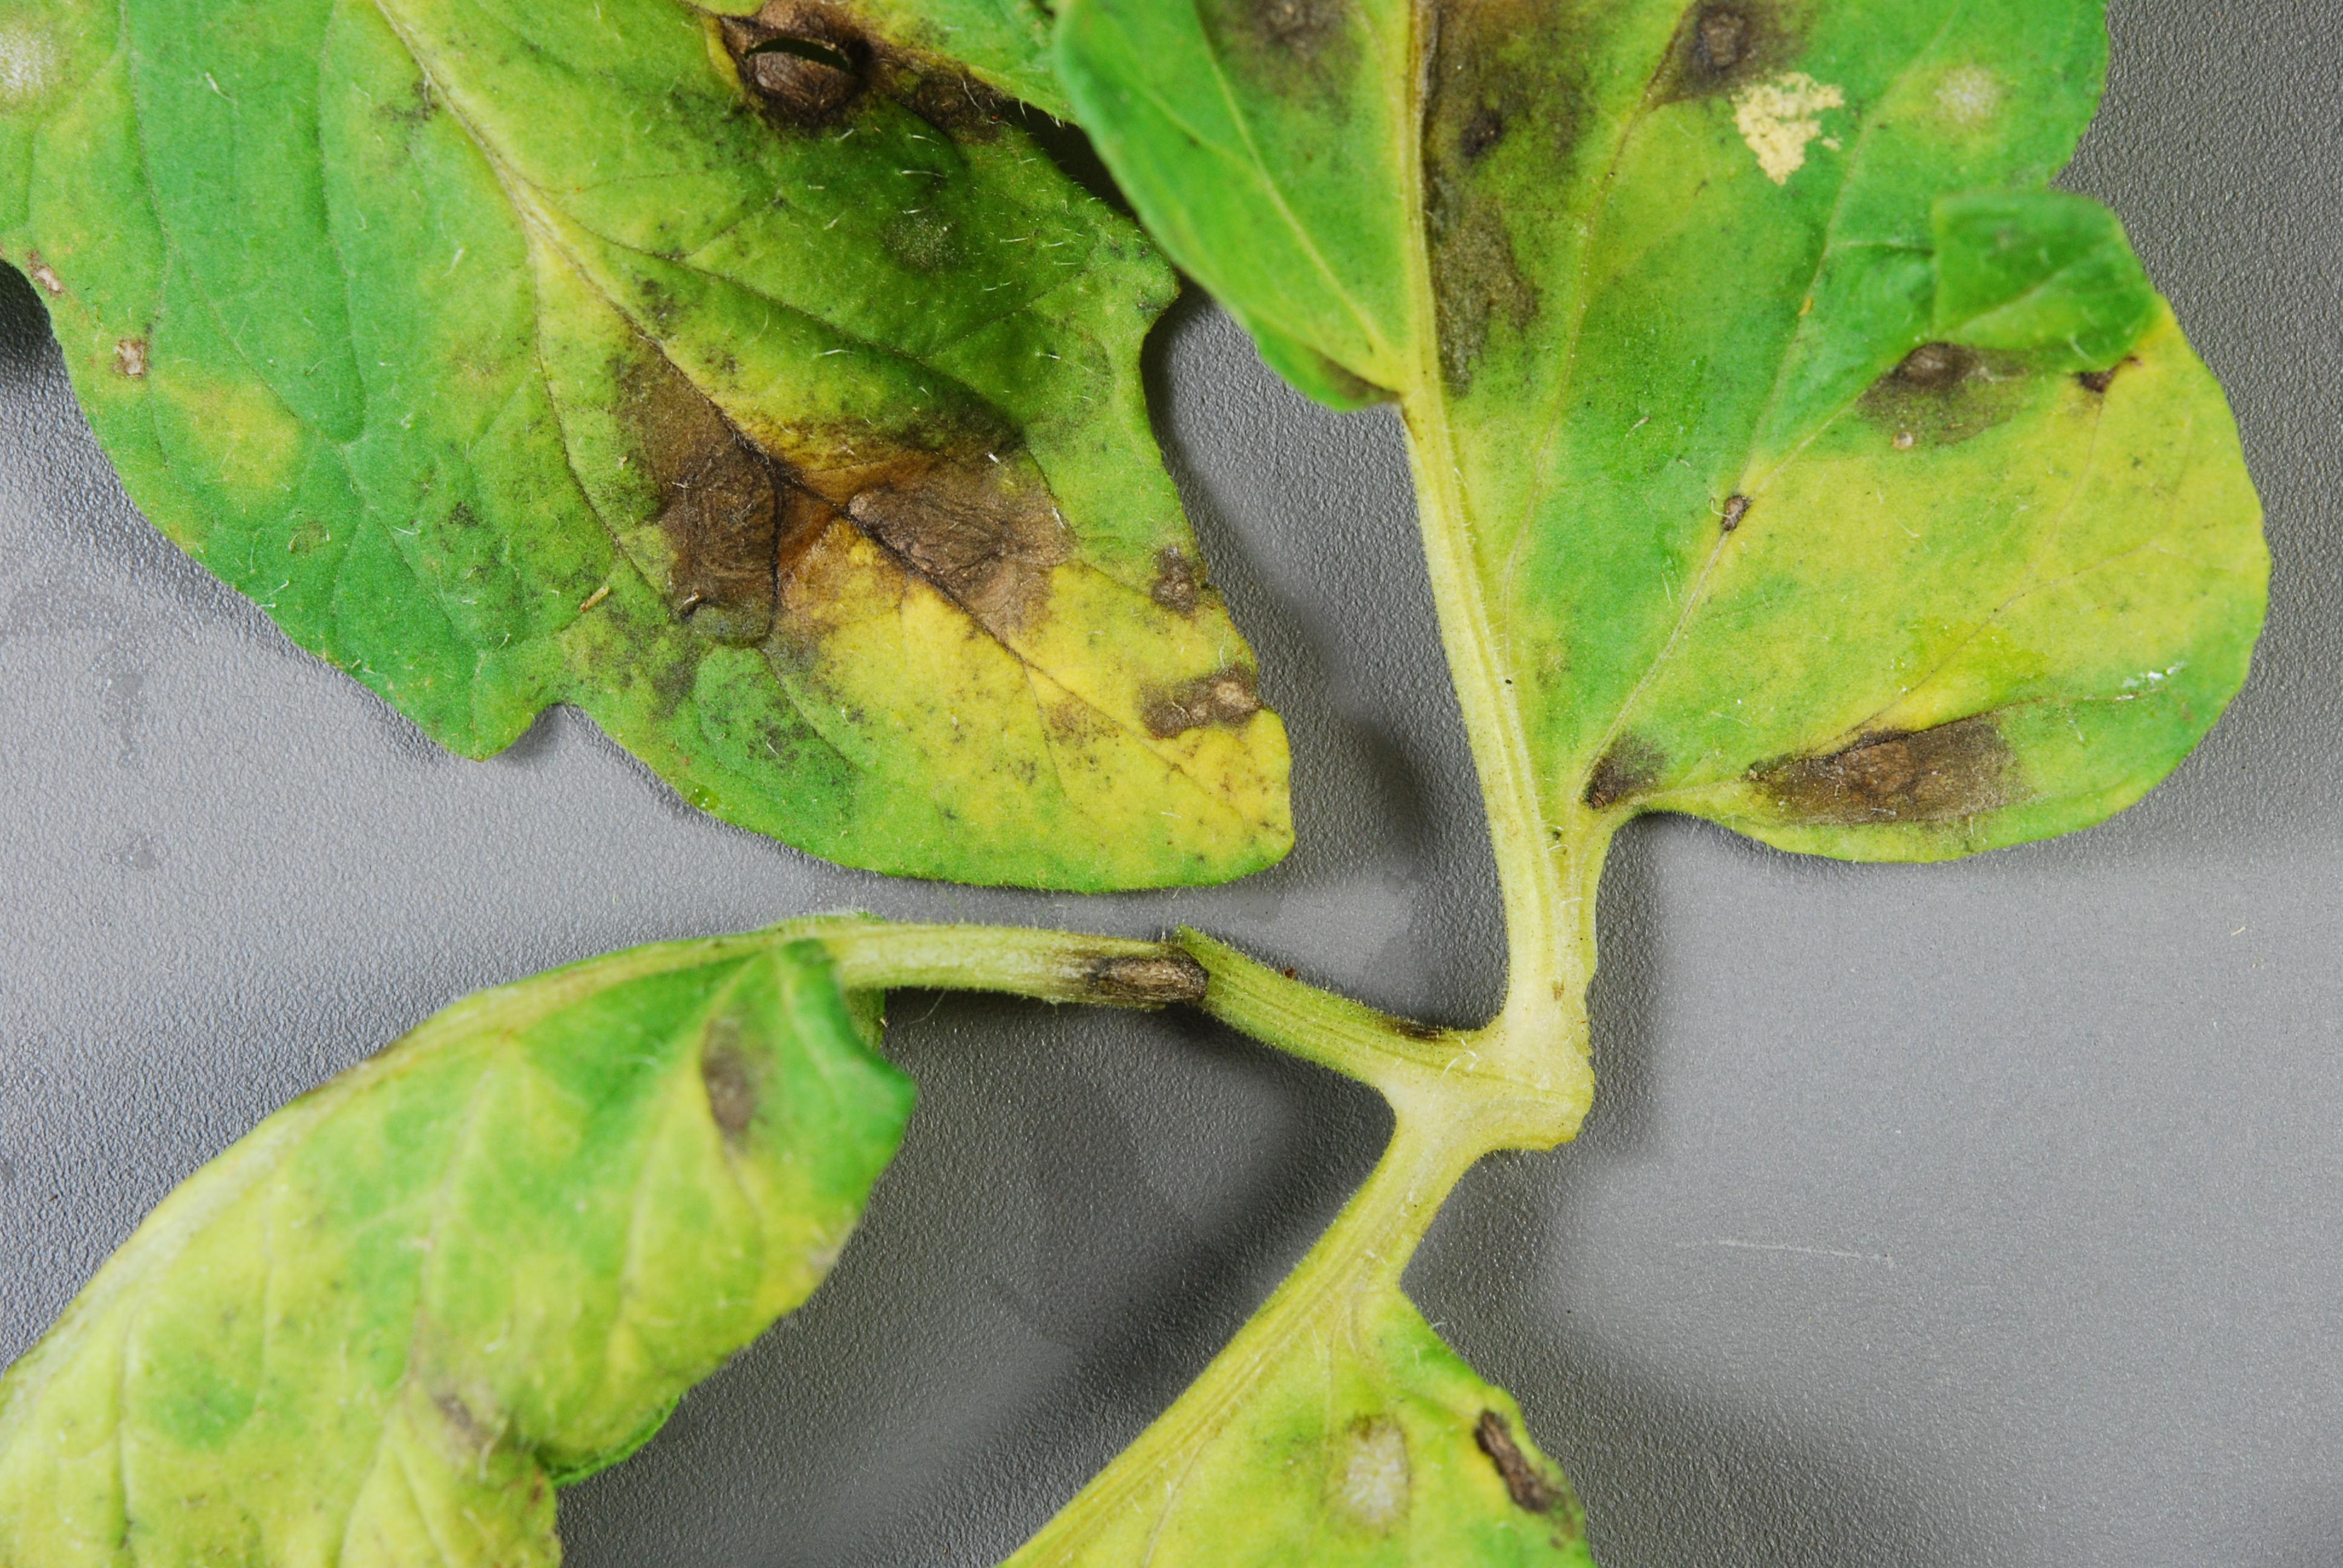Tomato Early blight leaf: (39, 0, 1353, 906), (1411, 0, 2278, 908)
